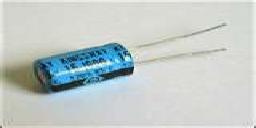Electrolytic Capacitor: (29, 22, 237, 95)
